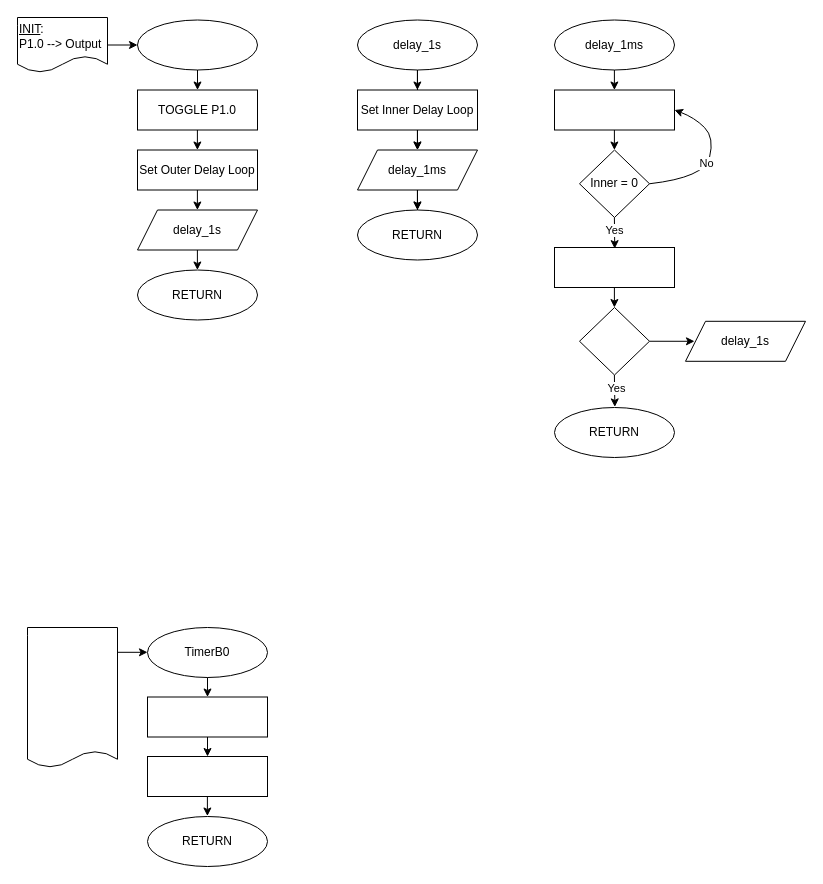
This 823x884 diagram has some shape labels left out. The shapes that lost their labels are listed below. From the top down, each one's centre as x and y in pixels, then its label:
At [197,44]: "main".
At [614,109]: "Decrement Inner Delay Loop".
At [614,267]: "Decrement Outer Delay Loop".
At [614,340]: "Outer = 0".
At [72,697]: "INIT : P6.6 --> Output TimerB0 as * ACLK * Continuous * Counter = 1 * ID = 8".
At [207,716]: "TOGGLE P6.6".
At [207,776]: "Clear Interrupt Flag".
